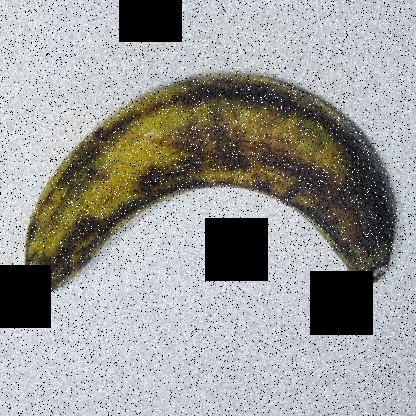overripe: (15, 53, 400, 312)
rotten: (313, 110, 411, 294)
